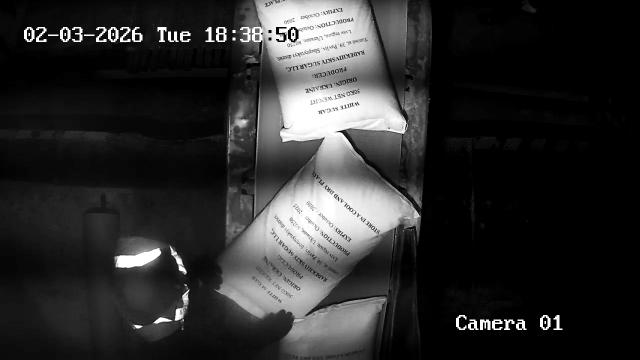bag: (216, 132, 420, 324), (255, 0, 407, 142), (281, 298, 388, 360)
